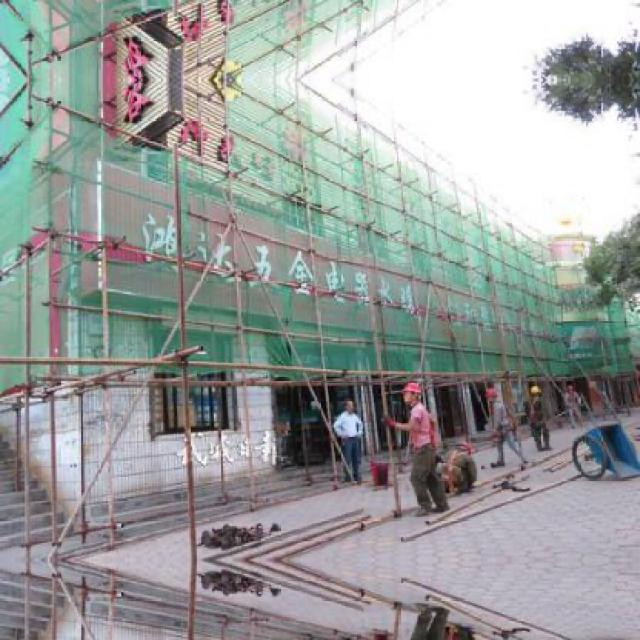helmet: (397, 378, 425, 408), (454, 440, 475, 457), (486, 385, 503, 403)
